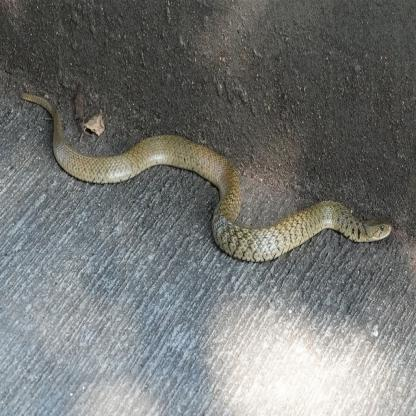Snake: (59, 137, 400, 260)
